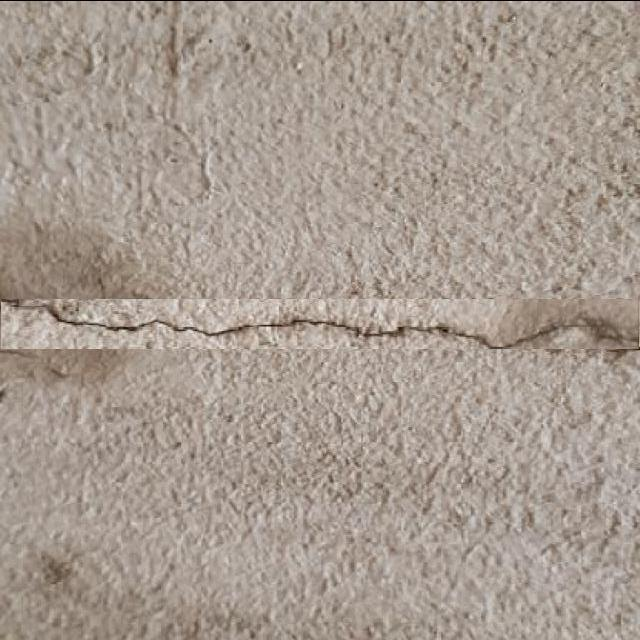Crack: (0, 293, 639, 353)
